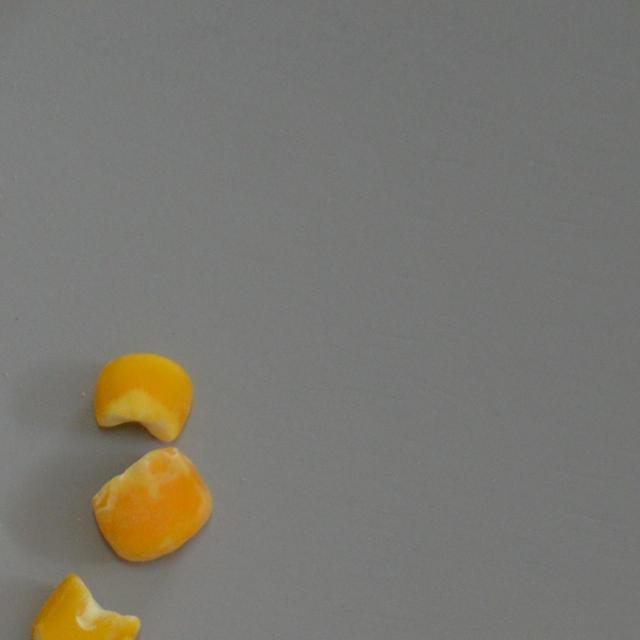dañado: (27, 569, 142, 640)
no_canjicado: (90, 348, 195, 446)
pelicula: (86, 442, 215, 566)
